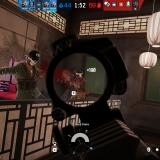Character: (0, 49, 48, 99), (66, 70, 88, 99)
Head: (27, 50, 41, 67), (75, 70, 84, 80)
